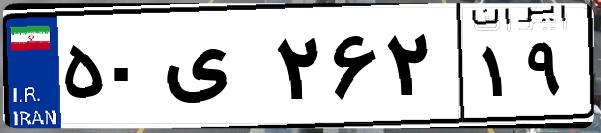0: (110, 28, 158, 98)
1: (475, 38, 525, 113)
2: (270, 28, 330, 110), (385, 28, 445, 110)
5: (57, 26, 110, 100)
6: (330, 28, 385, 110)
9: (525, 38, 570, 115)
ی: (158, 20, 270, 120)
